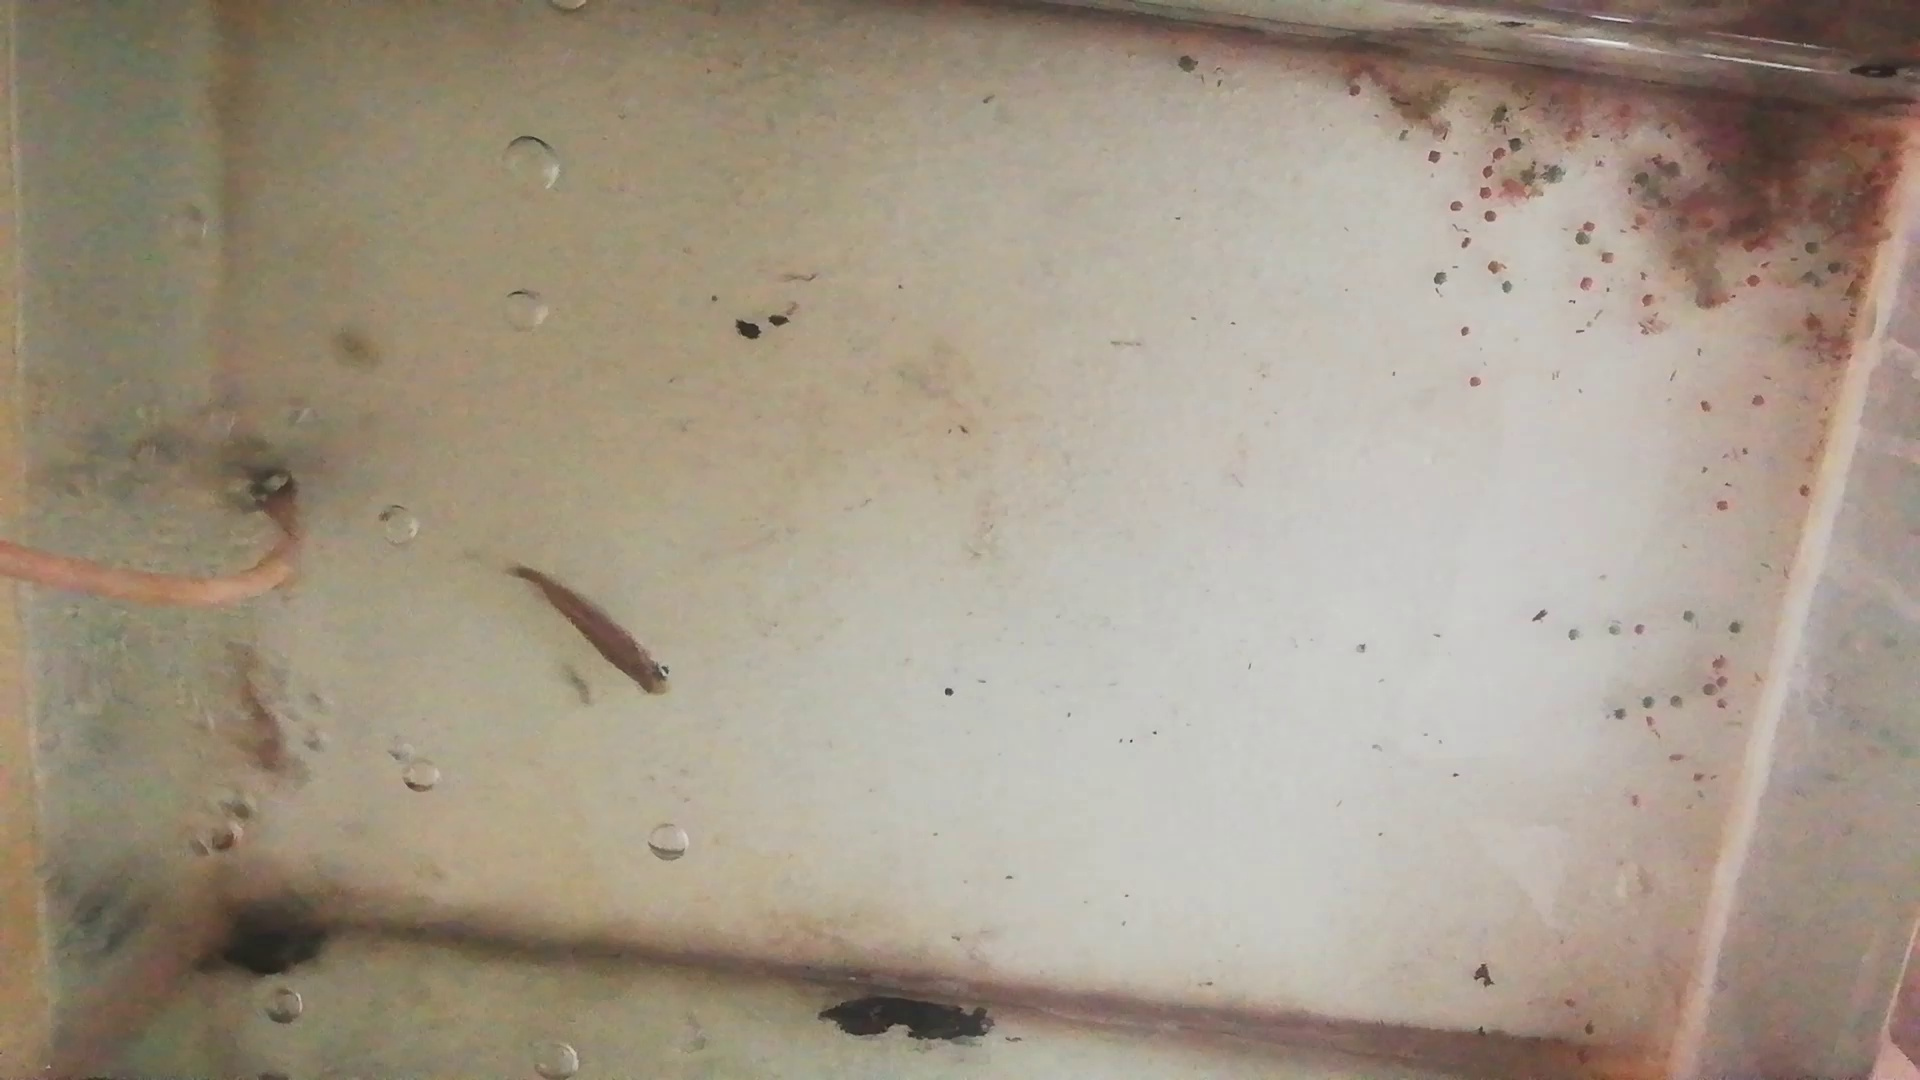fish: (512, 562, 673, 703), (216, 640, 305, 778)
